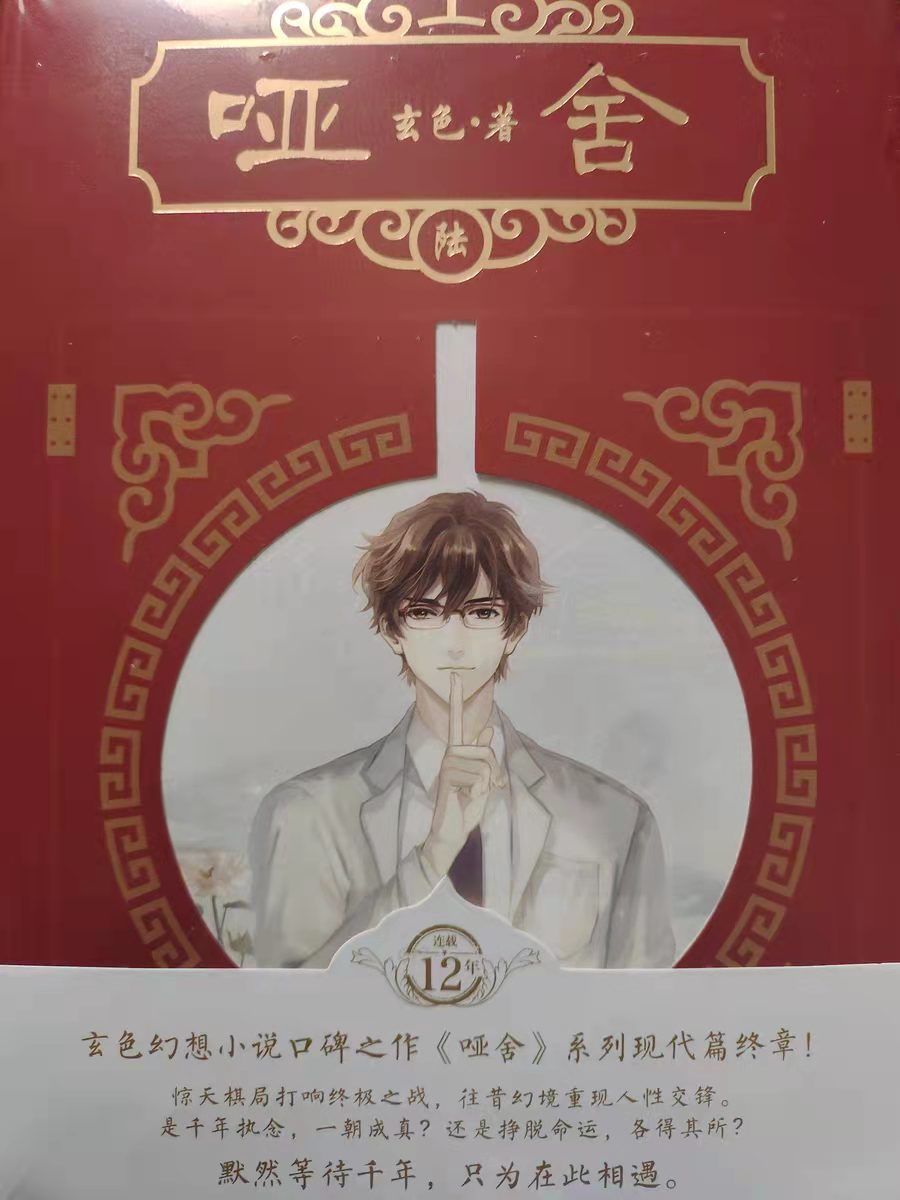book: (5, 4, 897, 1200)
